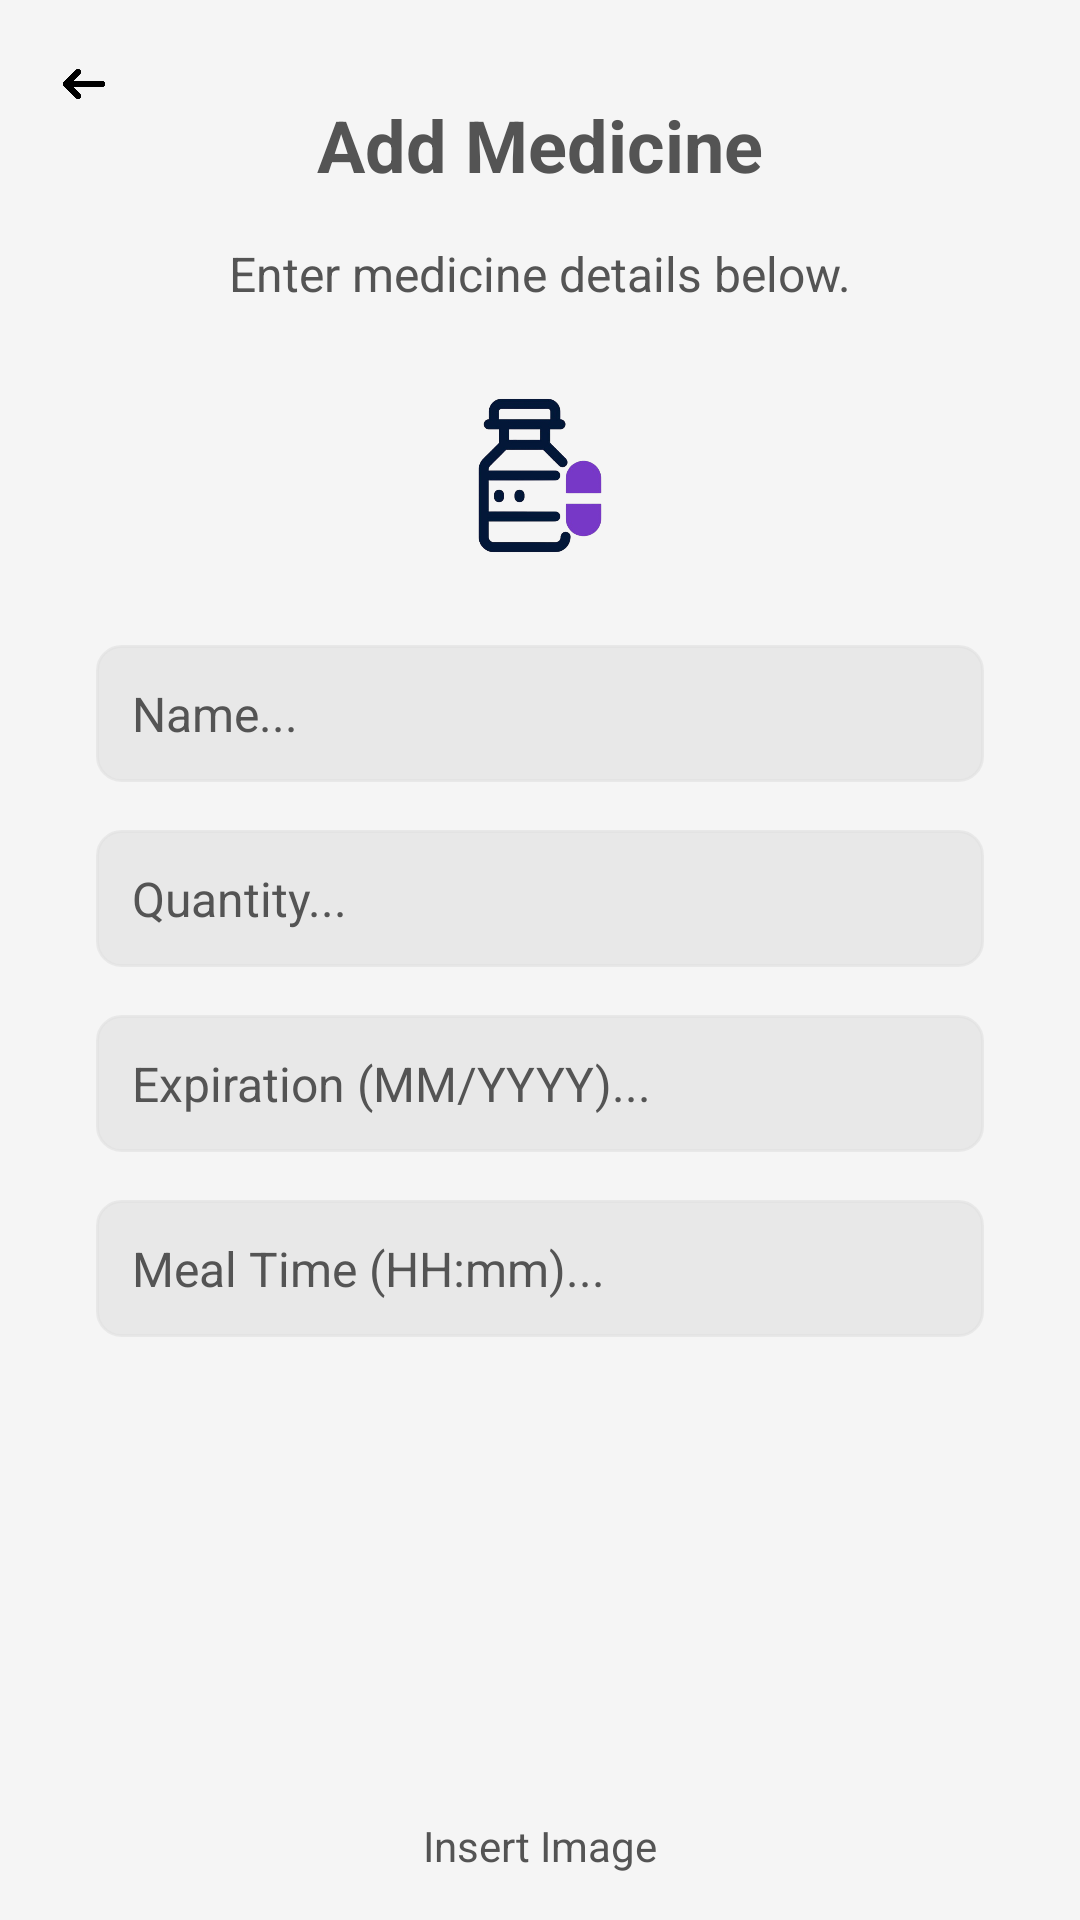

Named icons in this screenshot (1080px x 1920px) and their centers, point (x, y):
Back to MainPage Fragment: point (84, 84)
